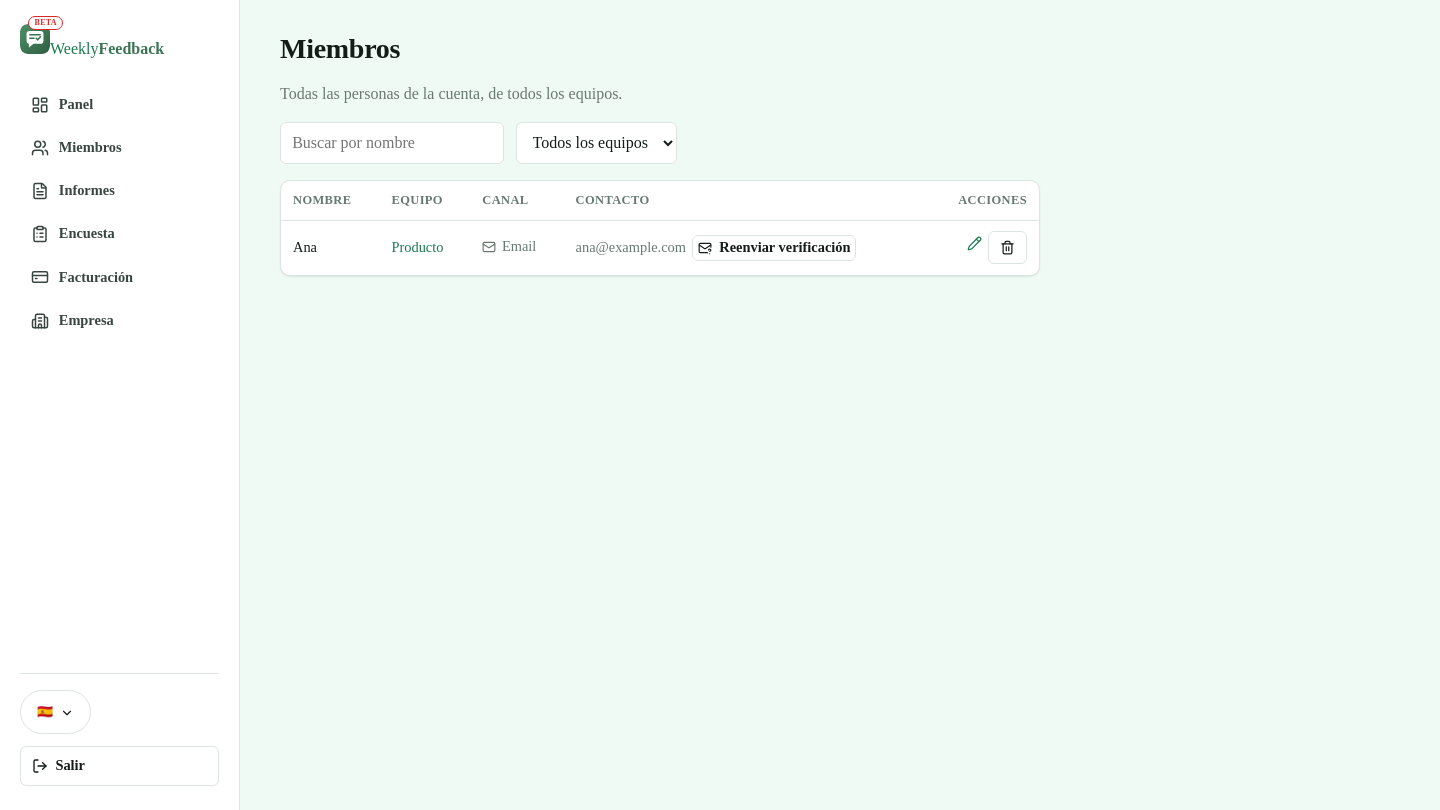
AllMembersPage › borrar un miembro: confirmar lo quita de la tabla
Expected: the text "Ana" is shown, [281,221,380,275]
Click the 2nd button at (1007, 248), box [988,232,1027,264]
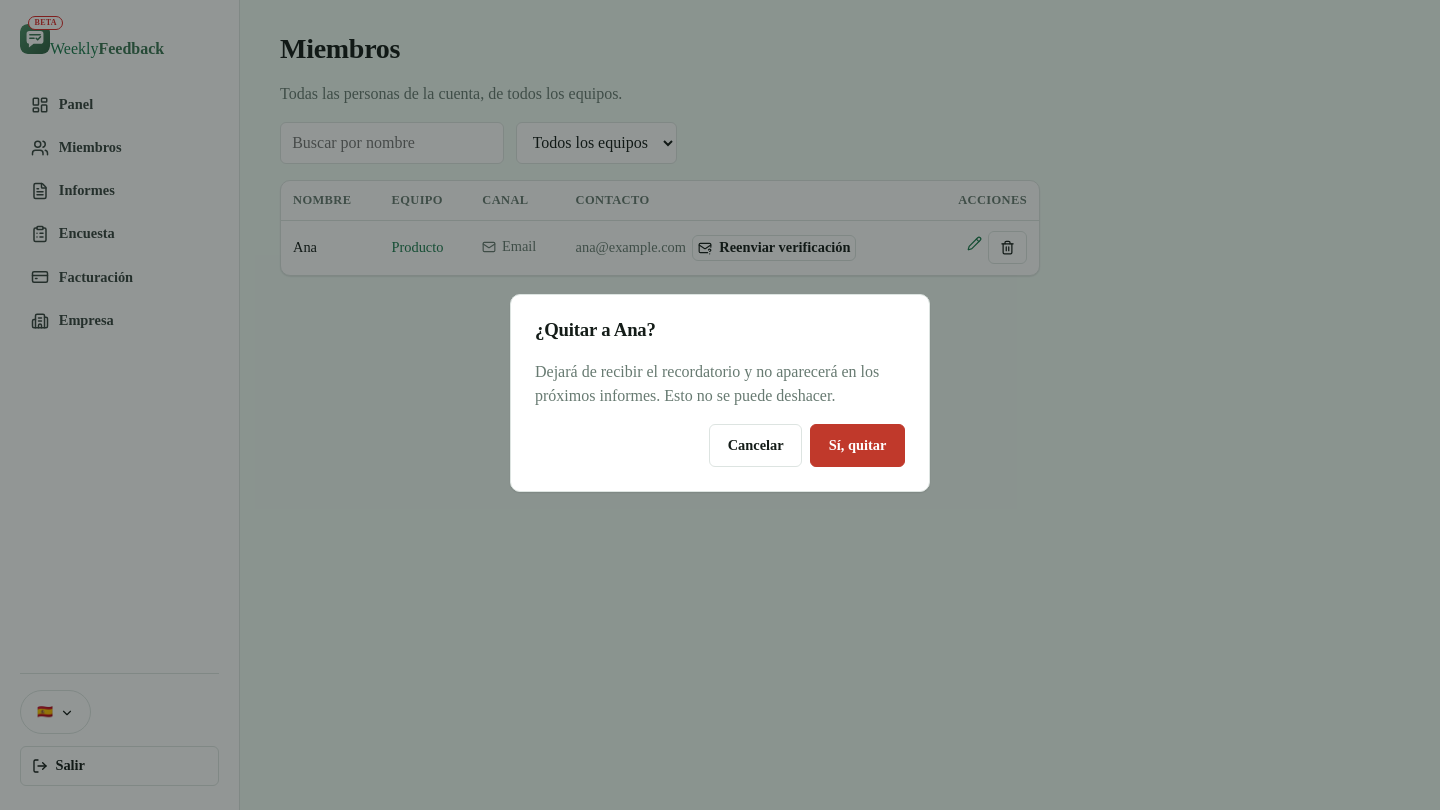
Click the button "Sí, quitar" at (858, 446), box [810,424,905,467]
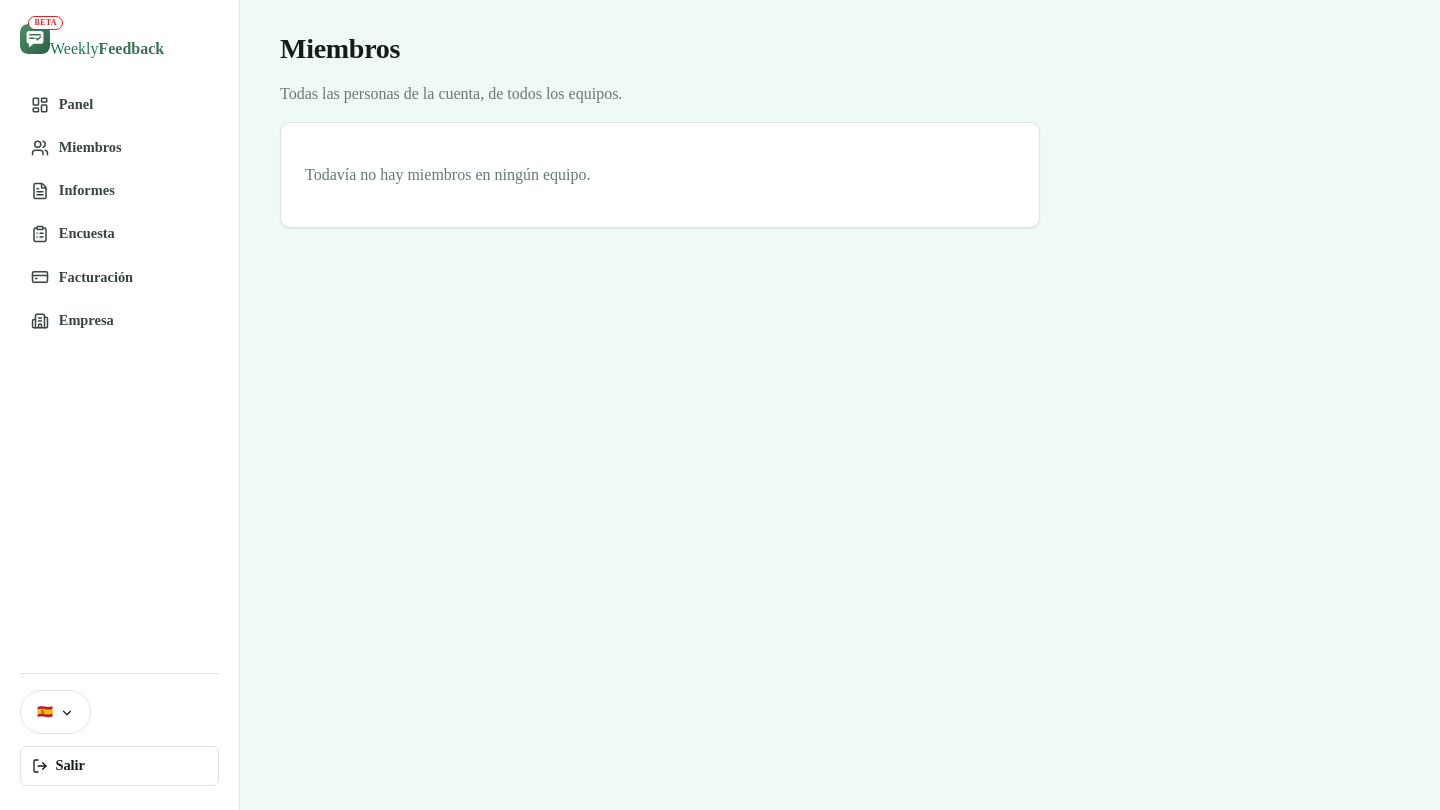
Result: the column heading "ana" is gone
